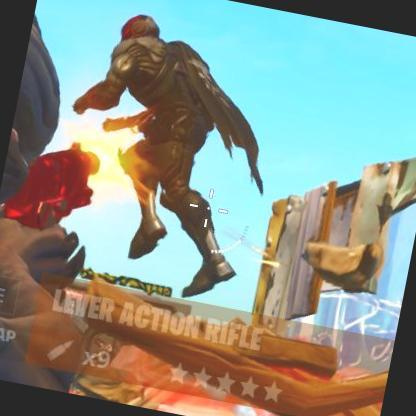person: (70, 13, 252, 284)
